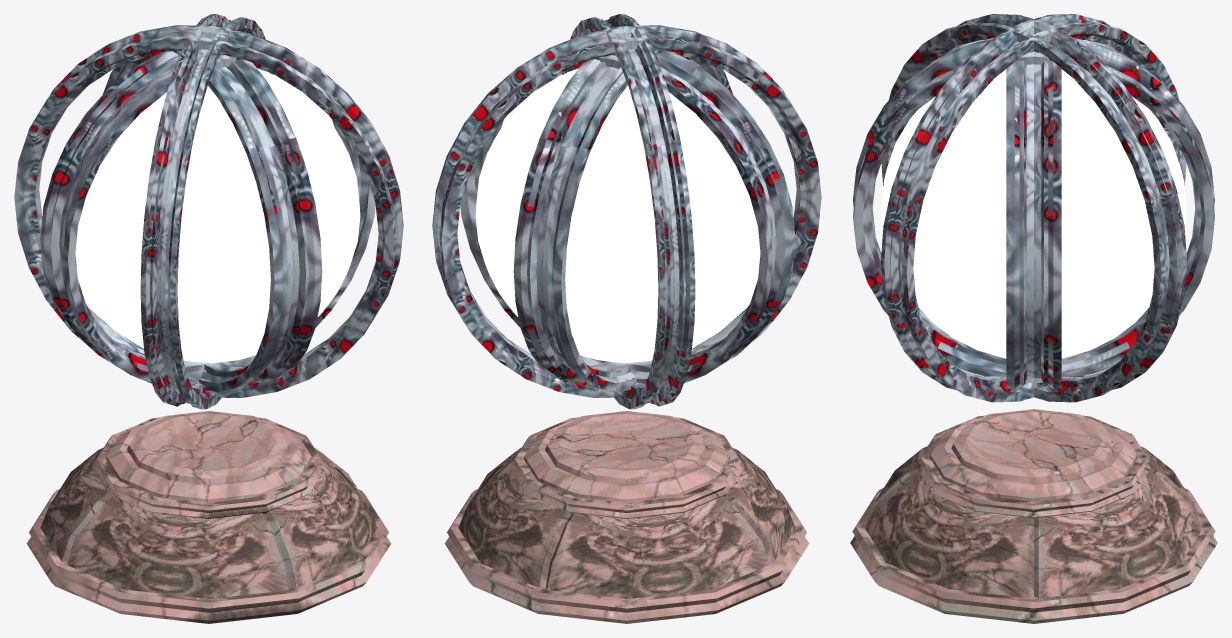
File: PURITY_ALTAR.glb
The picture shows the model from 3 angles, left to right: view 1: azimuth 30°, elevation 25°; view 2: azimuth 150°, elevation 25°; view 3: azimuth 270°, elevation 25°; orthographic projection.
Visible parts, largest first — view 1: ALTAR_BASE-COL, PURITY_SHAPE, SMALL_RING, BIG_RING; view 2: ALTAR_BASE-COL, PURITY_SHAPE, SMALL_RING, BIG_RING; view 3: ALTAR_BASE-COL, PURITY_SHAPE, SMALL_RING, BIG_RING.
Part boxes in pixels (bbox=[...]): ALTAR_BASE-COL: bbox=[26, 411, 391, 623]; PURITY_SHAPE: bbox=[75, 68, 360, 363]; SMALL_RING: bbox=[14, 14, 403, 409]; BIG_RING: bbox=[40, 51, 375, 392]; ALTAR_BASE-COL: bbox=[444, 411, 809, 623]; PURITY_SHAPE: bbox=[475, 68, 760, 363]; SMALL_RING: bbox=[432, 14, 821, 409]; BIG_RING: bbox=[460, 51, 795, 392]; ALTAR_BASE-COL: bbox=[850, 409, 1217, 623]; PURITY_SHAPE: bbox=[881, 69, 1186, 358]; SMALL_RING: bbox=[880, 14, 1187, 402]; BIG_RING: bbox=[853, 37, 1214, 388].
Size of the model in its own units: 2.06 by 3.21 by 2.06.
Materials: 4 (3 with a texture image).
